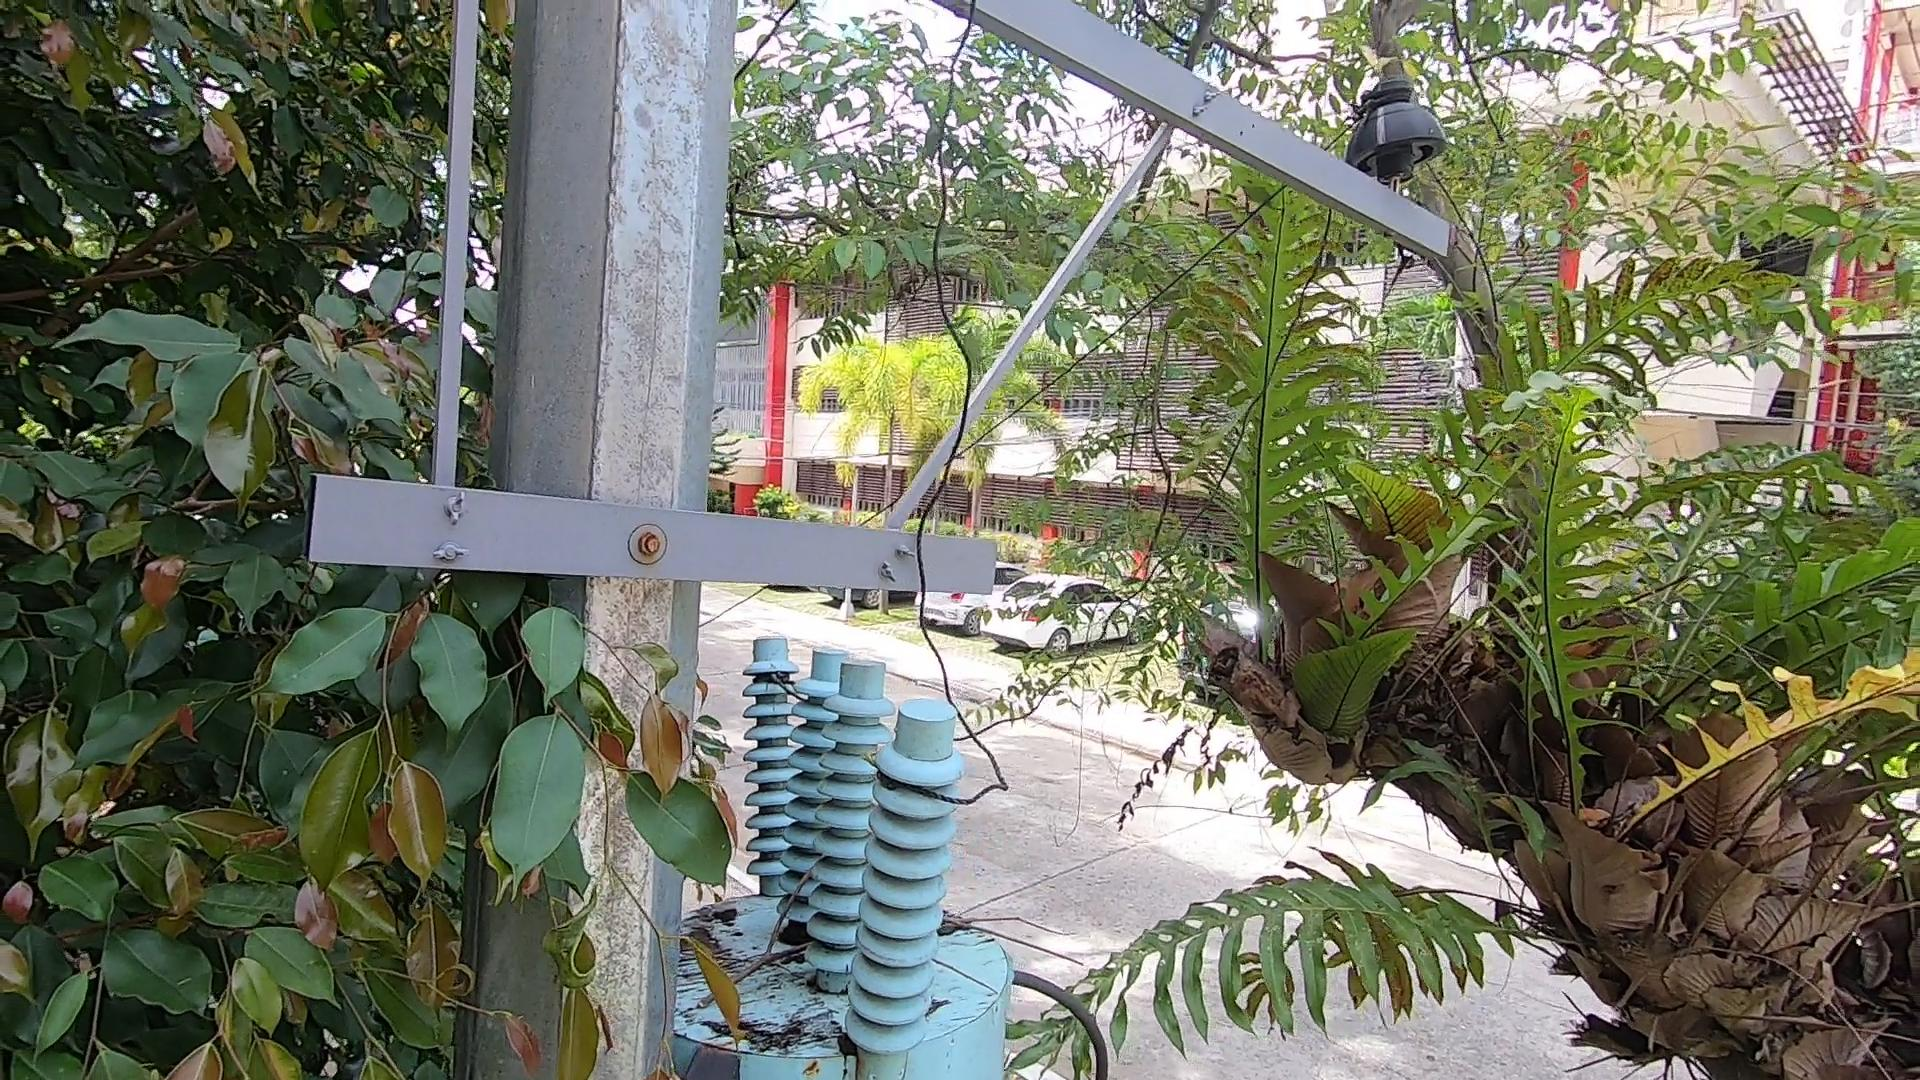branch with leaves: (352, 593, 748, 1080)
leaf: (690, 893, 761, 955), (819, 1009, 869, 1069)
tree branch: (673, 852, 1092, 1000)
